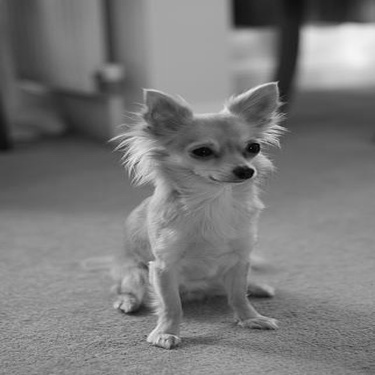dog: (95, 78, 296, 358)
